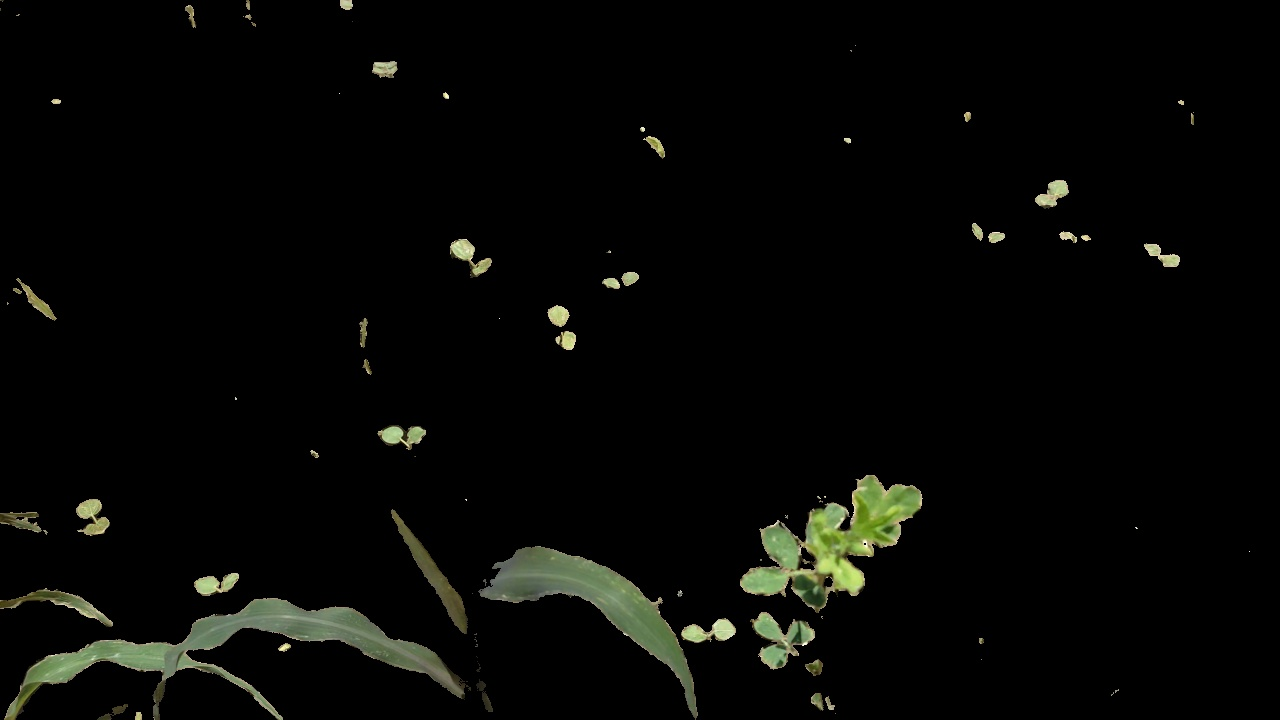crop: (153, 491, 706, 720), (1, 576, 288, 720)
weed: (747, 474, 947, 604), (747, 609, 853, 720), (541, 294, 587, 362), (449, 228, 495, 280), (69, 490, 114, 540), (596, 260, 644, 301), (682, 609, 735, 646), (373, 422, 435, 453), (1135, 235, 1185, 268), (965, 223, 1009, 259), (192, 566, 242, 595), (1038, 174, 1072, 212)
